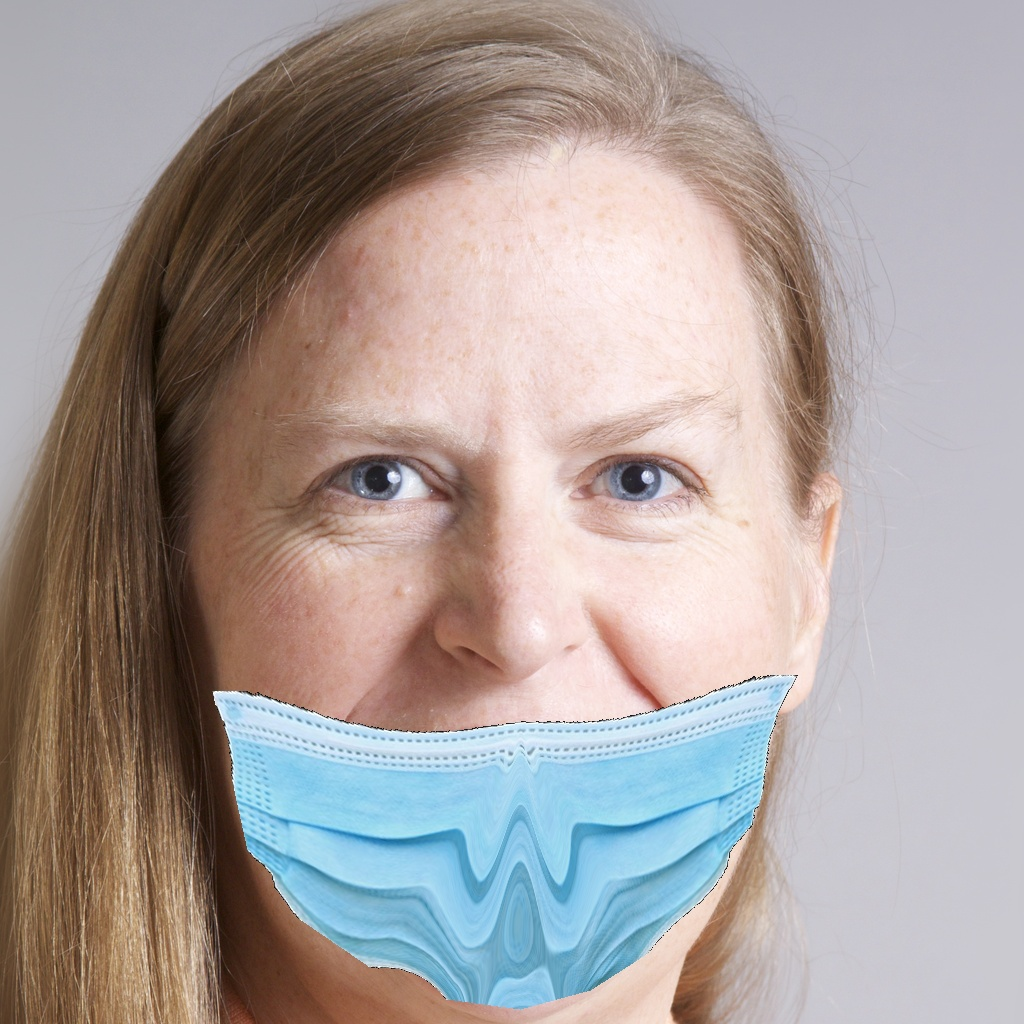mask_weared_incorrect: (198, 393, 798, 1012)
